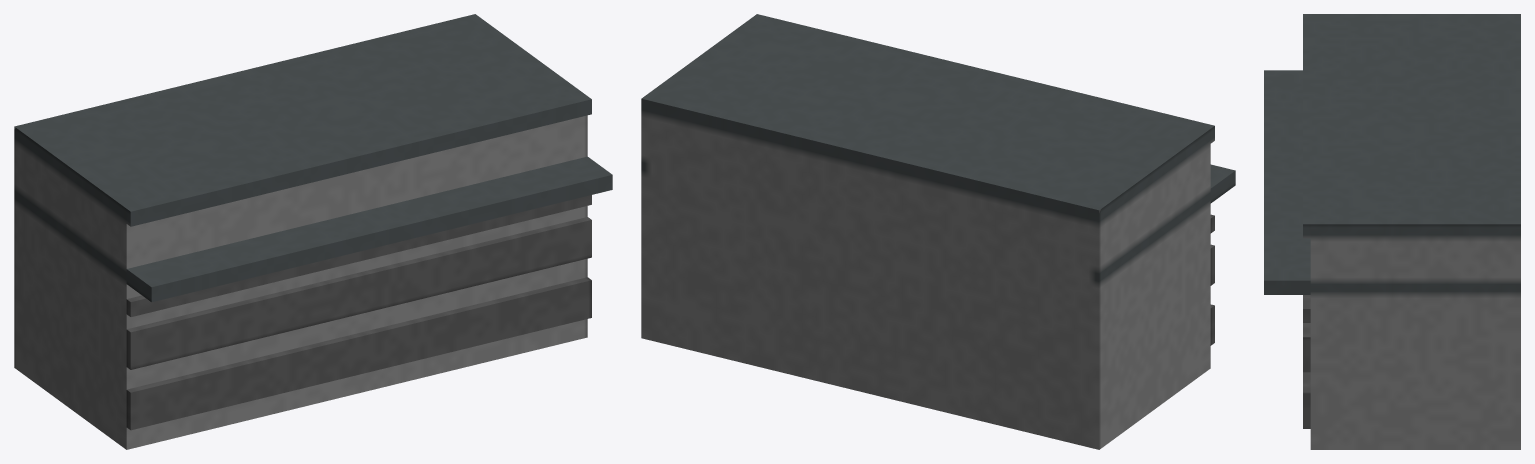
File: lada_poczta.dae
The picture shows the model from 3 angles, left to right: view 1: azimuth 30°, elevation 25°; view 2: azimuth 150°, elevation 25°; view 3: azimuth 270°, elevation 25°; orthographic projection. The views are drawn at different scales.
Visible parts, largest first — view 1: Content; view 2: Content; view 3: Content.
Part boxes in pixels (x1=…): Content: x1=14, y1=14, x2=612, y2=449; Content: x1=641, y1=14, x2=1235, y2=449; Content: x1=1264, y1=14, x2=1520, y2=449.
Bounding box in the file's own units: 64 × 32 × 33.
1 material, 1 textured.
